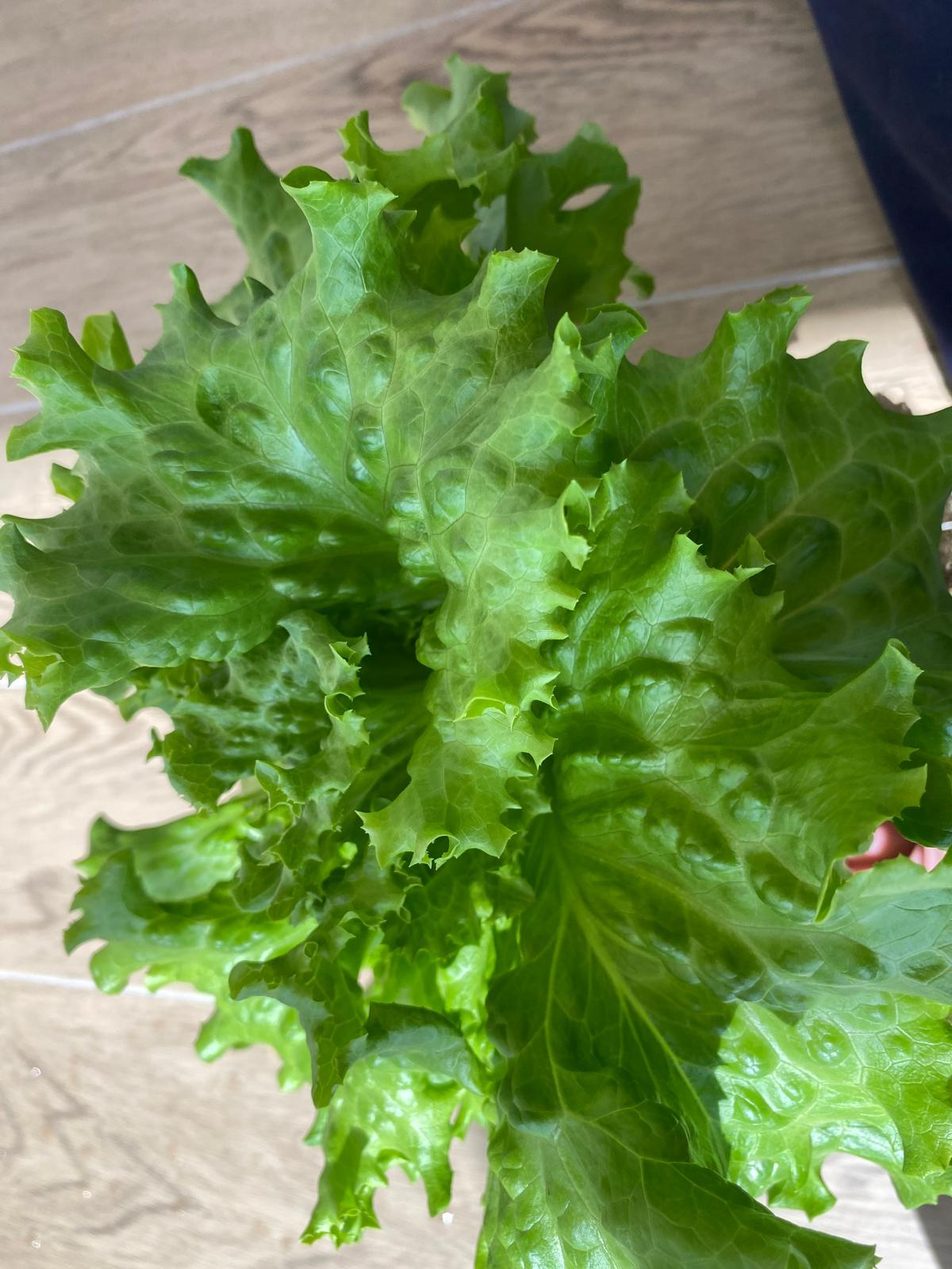Healthy: (0, 48, 952, 1269)
